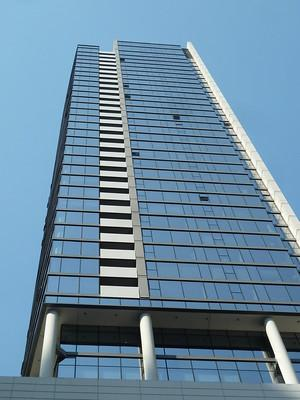building: (18, 39, 300, 400)
